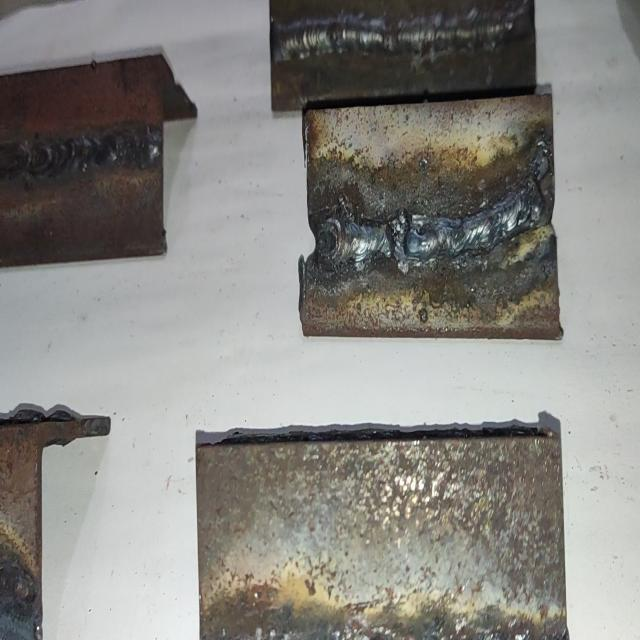Defect: (512, 128, 554, 234), (376, 200, 429, 270)
Welding Line: (320, 143, 554, 263), (276, 2, 530, 58), (4, 128, 158, 177)
Workpiece: (195, 442, 564, 640), (304, 104, 560, 338), (0, 52, 165, 266), (270, 0, 538, 110)
